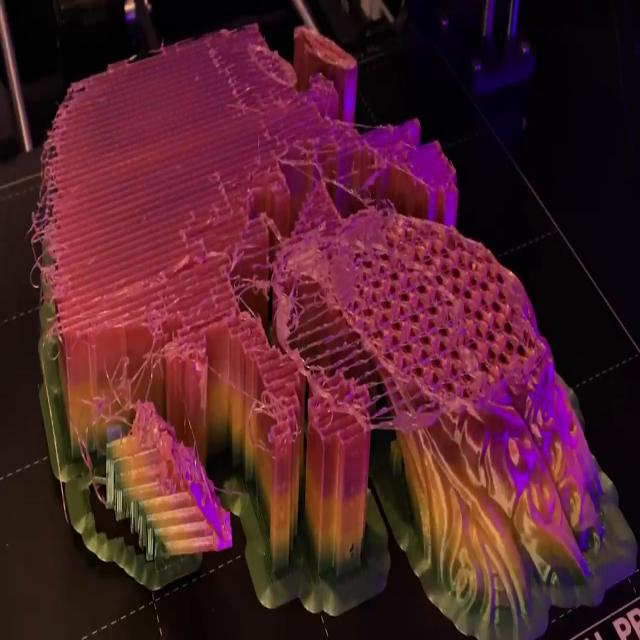spaghetti: (70, 351, 166, 489), (24, 71, 72, 330), (244, 368, 306, 456), (230, 261, 287, 316), (259, 198, 289, 254)
